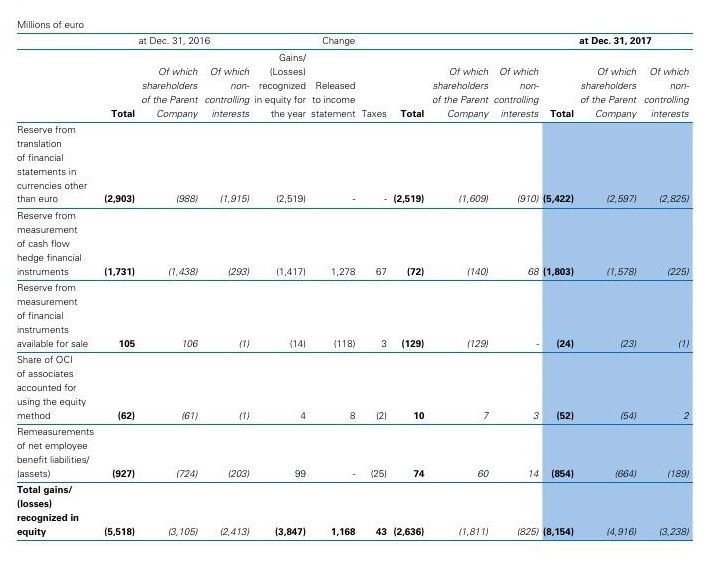table: (0, 0, 712, 562)
